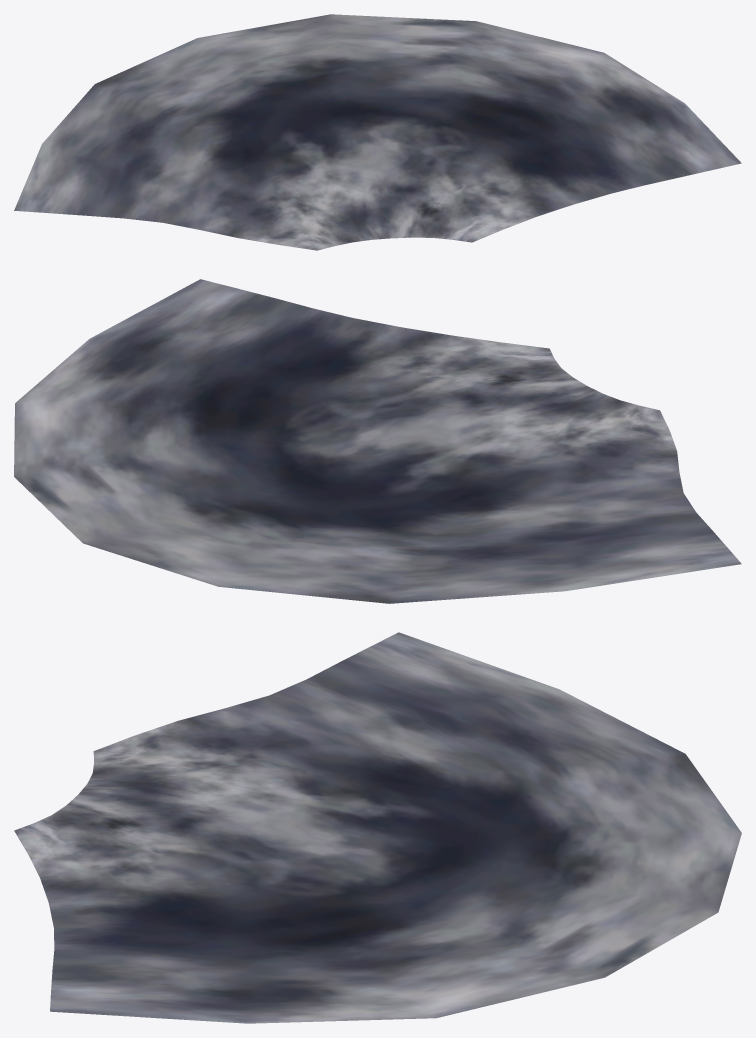
The model's file is CB_NEWPLAYSURFACE_CB_WATERFALLS16.fbx.
3 views of the same model, one above another, from view 1: azimuth 30°, elevation 25°; view 2: azimuth 150°, elevation 25°; view 3: azimuth 270°, elevation 25° (orthographic). The views are drawn at different scales.
Visible parts, largest first — view 1: CB_NEWPLAYSURFACE_CB_WATERFALLS16; view 2: CB_NEWPLAYSURFACE_CB_WATERFALLS16; view 3: CB_NEWPLAYSURFACE_CB_WATERFALLS16.
Boxes of the visible parts, <box> form: CB_NEWPLAYSURFACE_CB_WATERFALLS16: <box>14,14,741,250</box>; CB_NEWPLAYSURFACE_CB_WATERFALLS16: <box>14,279,741,603</box>; CB_NEWPLAYSURFACE_CB_WATERFALLS16: <box>14,632,741,1023</box>.
Bounding box in the file's own units: 173509 × 1594 × 136378.
1 material, 1 textured.
